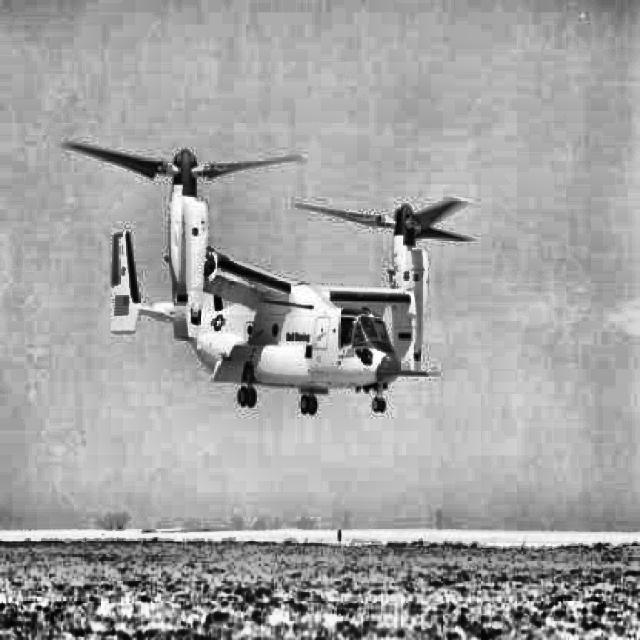V22: (61, 142, 476, 416)
